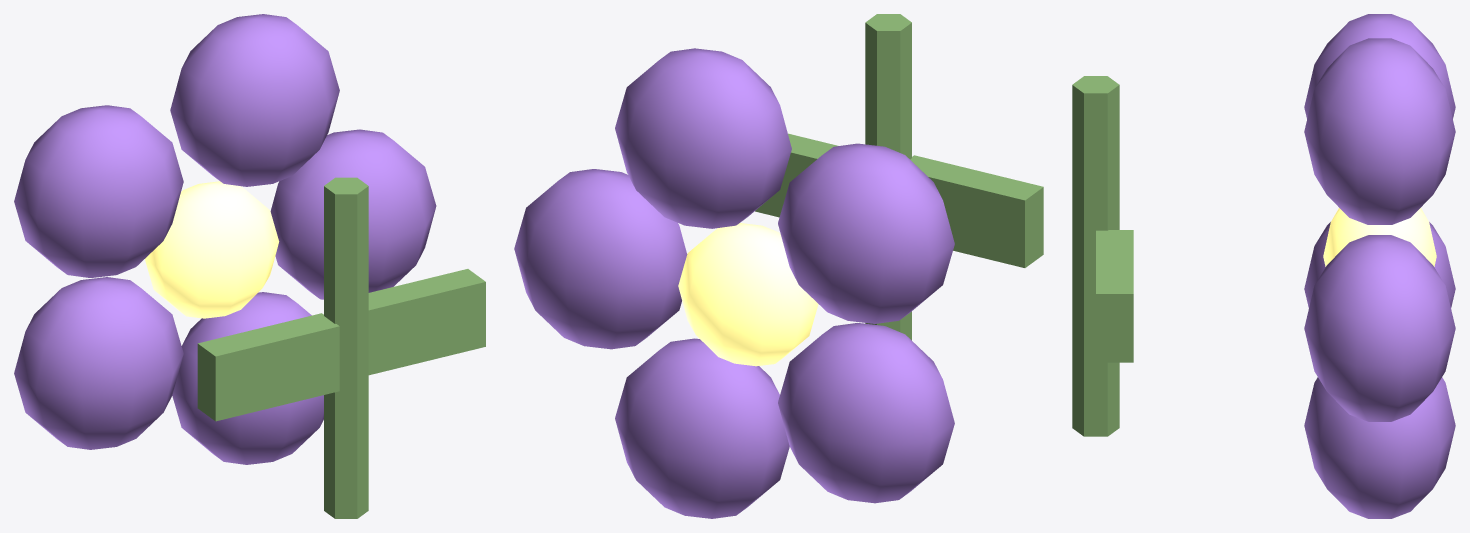
File: flower_2.glb
The picture shows the model from 3 angles, left to right: view 1: azimuth 30°, elevation 25°; view 2: azimuth 150°, elevation 25°; view 3: azimuth 270°, elevation 25°; orthographic projection. The views are drawn at different scales.
Parts seen in each view (by area): view 1: flower_2_root; view 2: flower_2_root; view 3: flower_2_root.
Part boxes in pixels (box(x1,y1,x2,y2)): flower_2_root: box(14, 14, 485, 518); flower_2_root: box(514, 14, 1043, 518); flower_2_root: box(1072, 14, 1455, 518).
Size of the model in its own units: 0.428 by 0.45 by 0.336.
